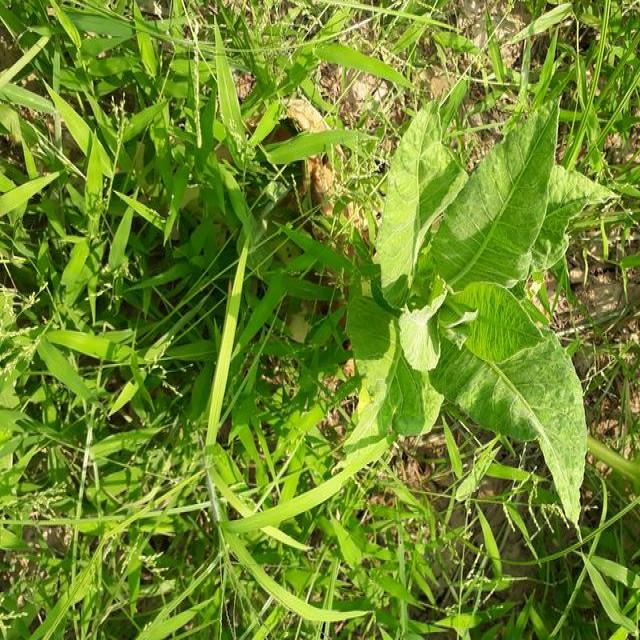crop: (342, 84, 586, 520)
